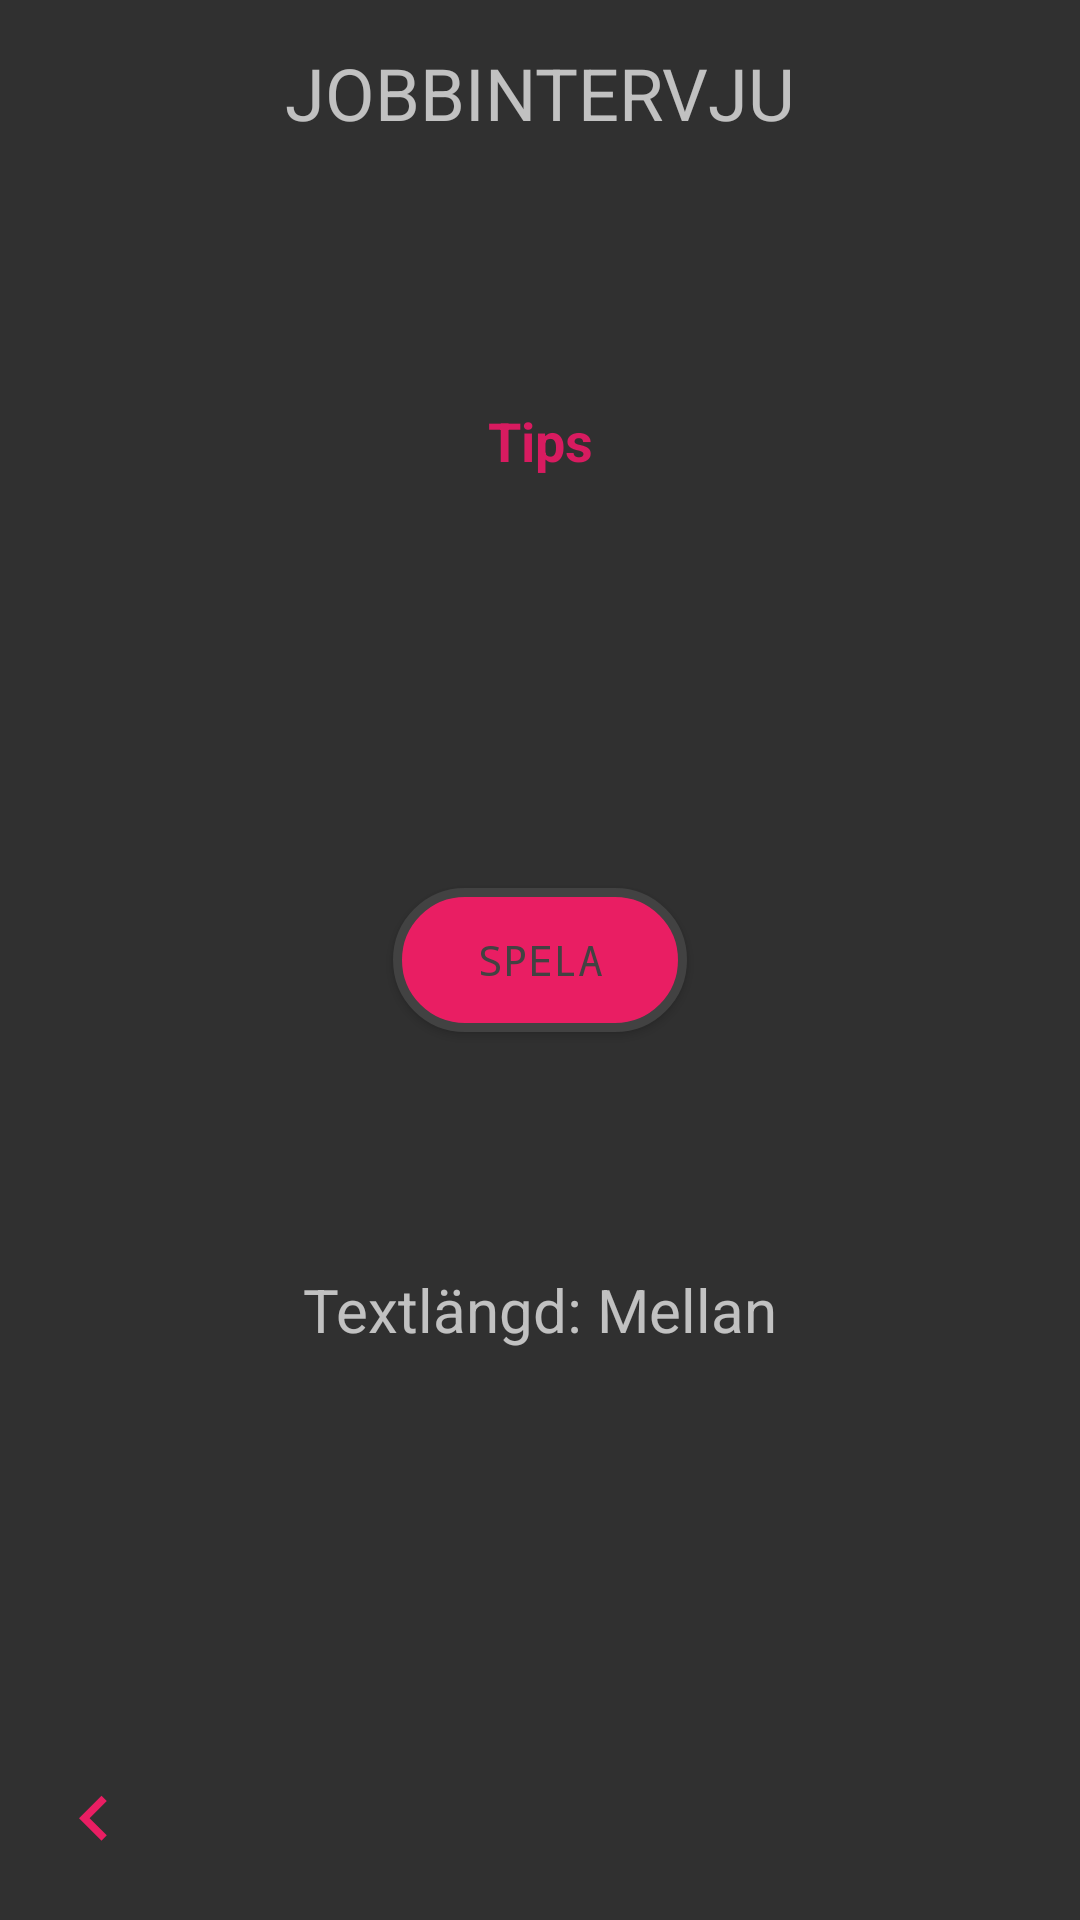

Where icons sit on this 1080*1920 app screen, as (x1, y1, x2, y2):
keyboard arrow left: (79, 1796, 107, 1841)
